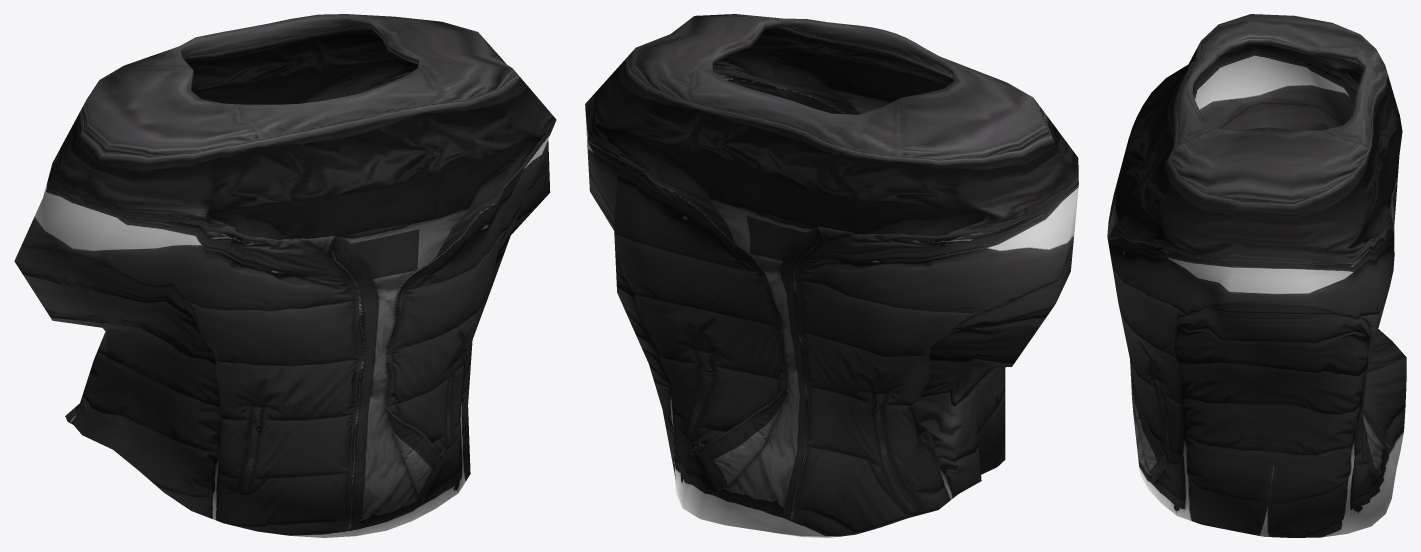
File: eab4741c-919d-4f96-ace0-e48b42845612.glb
3 renders of one model, left to right at view 1: azimuth 30°, elevation 25°; view 2: azimuth 150°, elevation 25°; view 3: azimuth 270°, elevation 25°, orthographic. The views are drawn at different scales.
Parts seen in each view (by area): view 1: garment; view 2: garment; view 3: garment.
Part boxes in pixels (box(x1,y1,x2,y2)): garment: box(14, 14, 556, 537); garment: box(585, 14, 1078, 537); garment: box(1107, 14, 1406, 537).
Bounding box in the file's own units: 0.5628 × 0.4796 × 0.3285.
Materials: 1 (1 with a texture image).
